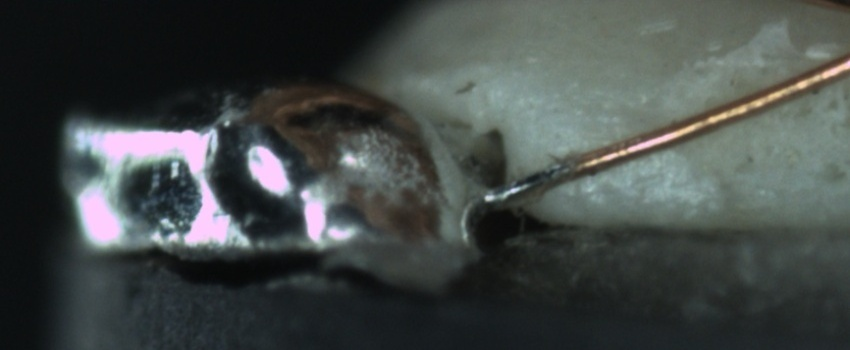TS: (485, 162, 576, 206)
